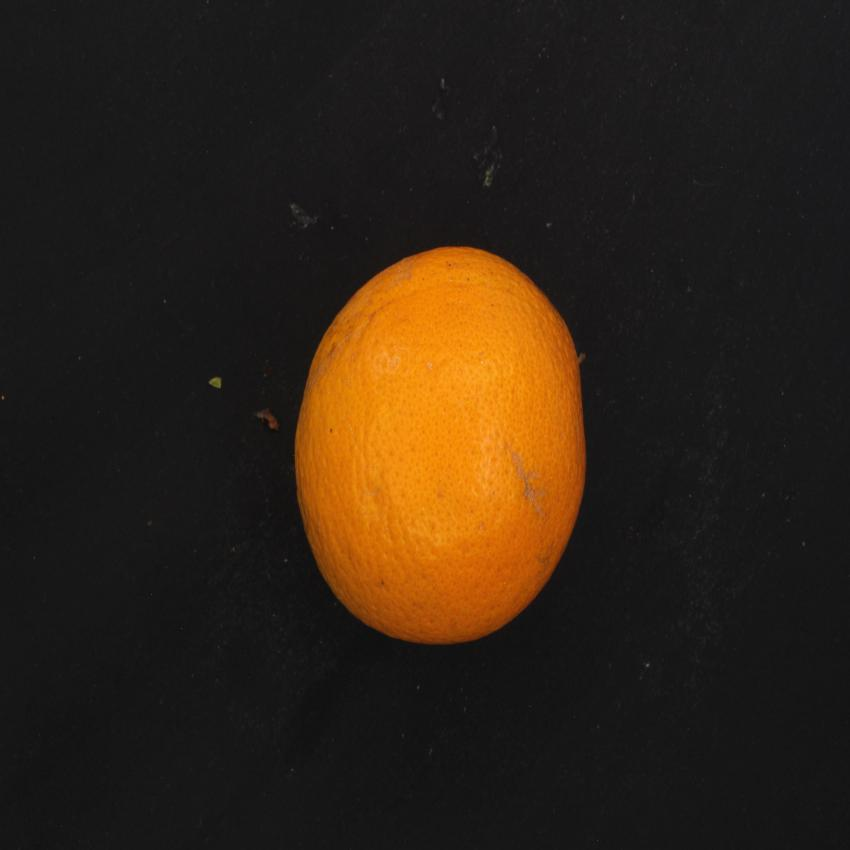Buen estado: (261, 229, 597, 660)
